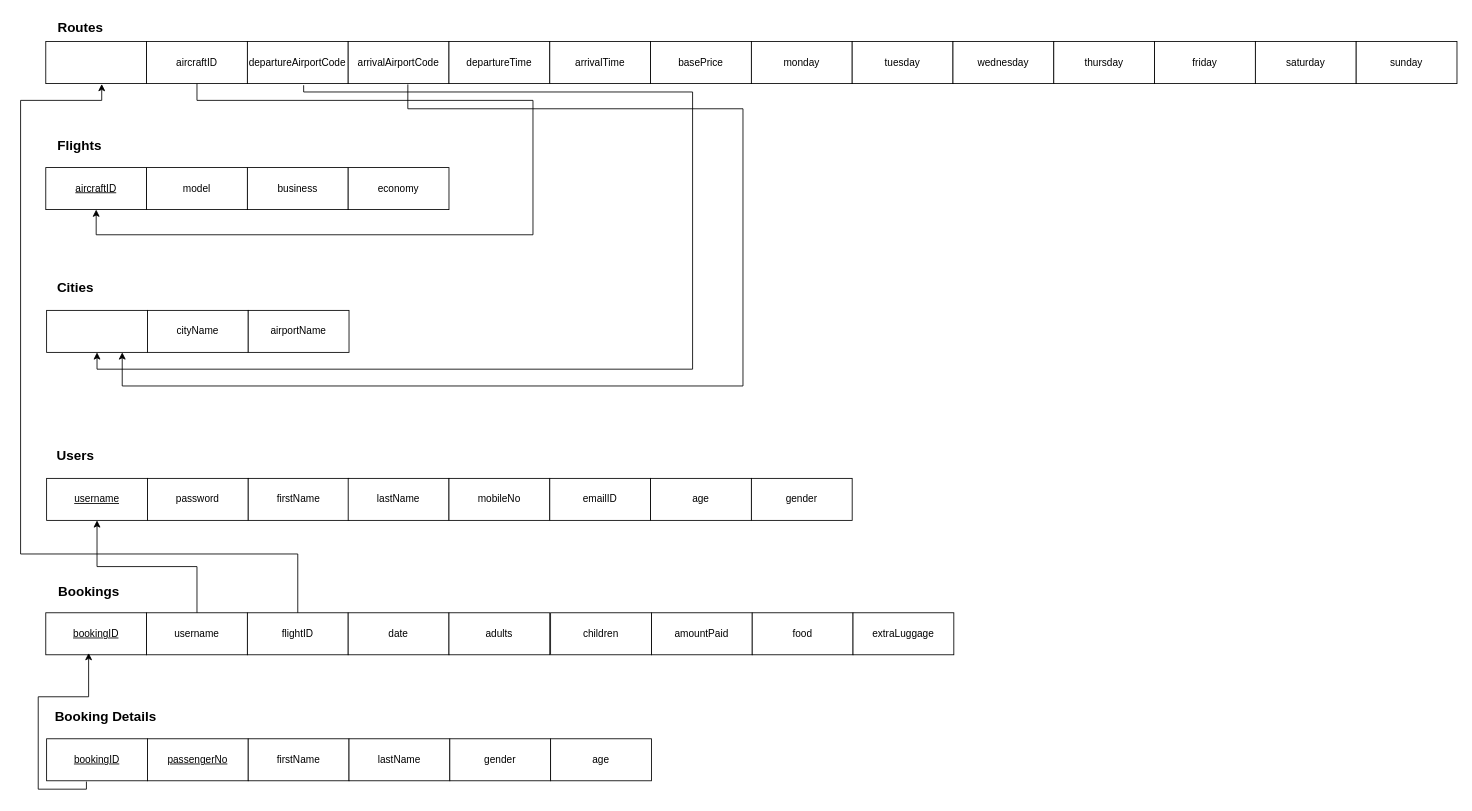
Image size: 1472x811. Some labels were removed from this diagram. The centre of each missing label's shape, as x and y in pixels:
"cityID" belongs at [96,331].
"id" belongs at [96,62].
